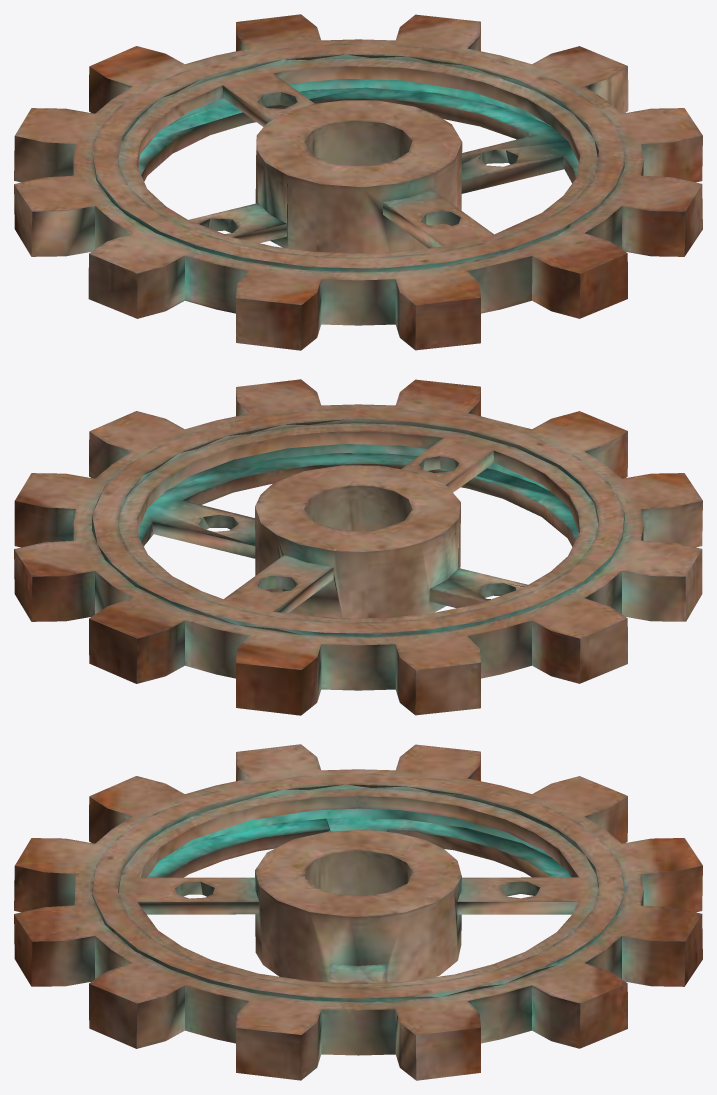
Rendered from rusted_copper_gear.glb.
The picture shows the model from 3 angles, top to bottom: view 1: azimuth 30°, elevation 25°; view 2: azimuth 150°, elevation 25°; view 3: azimuth 270°, elevation 25°; orthographic projection.
Visible parts, largest first — view 1: rusted_copper_gear; view 2: rusted_copper_gear; view 3: rusted_copper_gear.
Part boxes in pixels (x1=…): rusted_copper_gear: x1=14, y1=14, x2=702, y2=350; rusted_copper_gear: x1=14, y1=379, x2=702, y2=715; rusted_copper_gear: x1=14, y1=744, x2=702, y2=1080.
Size of what is drawn, in the model's own units: 0.2007 by 0.0241 by 0.2004.
1 material, 1 textured.
